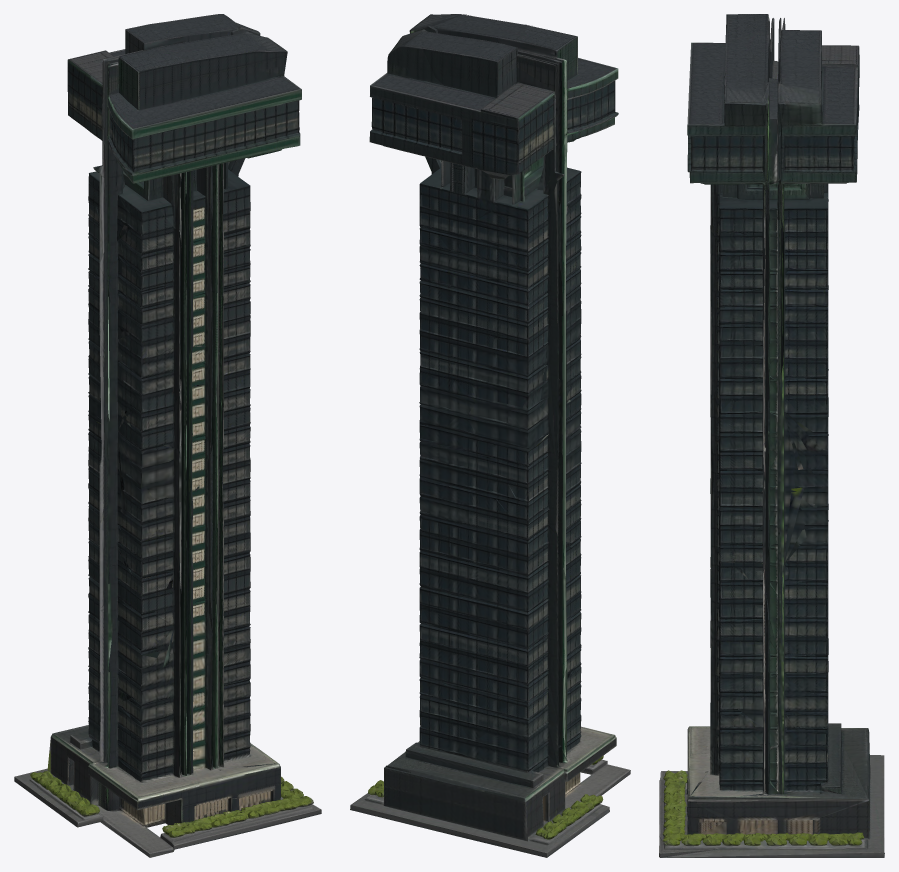
Rendered from neon-v-E.glb.
The picture shows the model from 3 angles, left to right: view 1: azimuth 30°, elevation 25°; view 2: azimuth 150°, elevation 25°; view 3: azimuth 270°, elevation 25°; orthographic projection. The views are drawn at different scales.
Parts seen in each view (by area): view 1: output_unwrapped; view 2: output_unwrapped; view 3: output_unwrapped.
Boxes of the visible parts, bbox=[...] form: output_unwrapped: bbox=[14, 14, 321, 857]; output_unwrapped: bbox=[350, 14, 630, 857]; output_unwrapped: bbox=[659, 14, 884, 857].
Bounding box in the file's own units: 26.68 × 97.9 × 25.93.
Materials: 1 (1 with a texture image).
